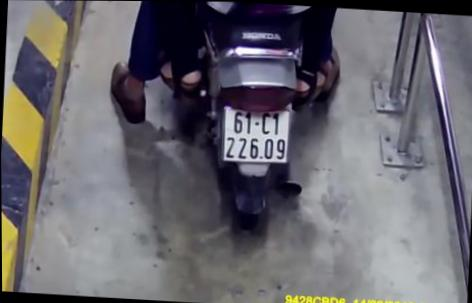LP: (220, 105, 289, 164)
